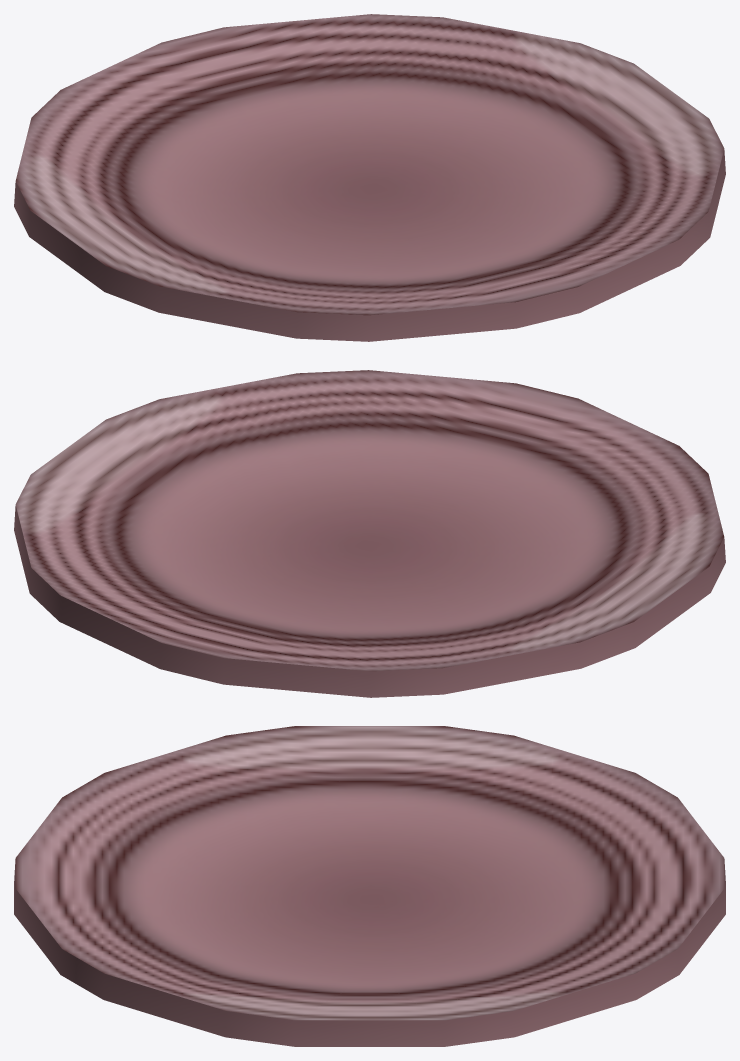
Rendered from Plate_C.FBX.
The picture shows the model from 3 angles, top to bottom: view 1: azimuth 30°, elevation 25°; view 2: azimuth 150°, elevation 25°; view 3: azimuth 270°, elevation 25°; orthographic projection.
Parts seen in each view (by area): view 1: Plate; view 2: Plate; view 3: Plate.
Boxes of the visible parts, x1,y1,x2,y2 form: Plate: [14, 14, 725, 341]; Plate: [14, 370, 725, 697]; Plate: [14, 726, 725, 1046].
Size of the model in its own units: 105 by 4.28 by 107.
